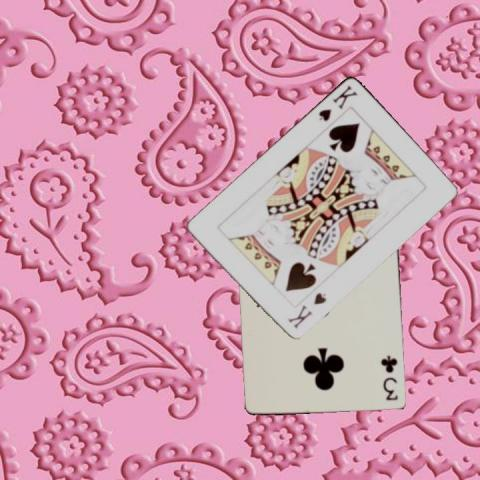3c: (378, 353, 399, 402)
Ks: (285, 289, 328, 330), (315, 82, 359, 122)
